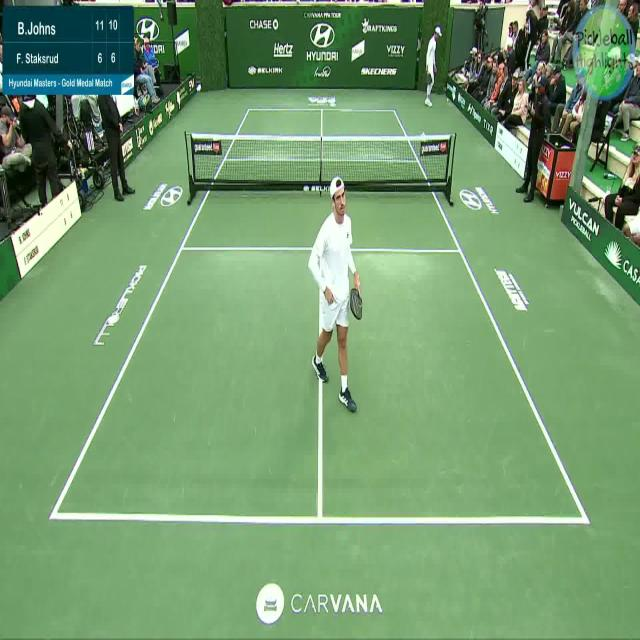ball: (446, 98, 449, 103)
